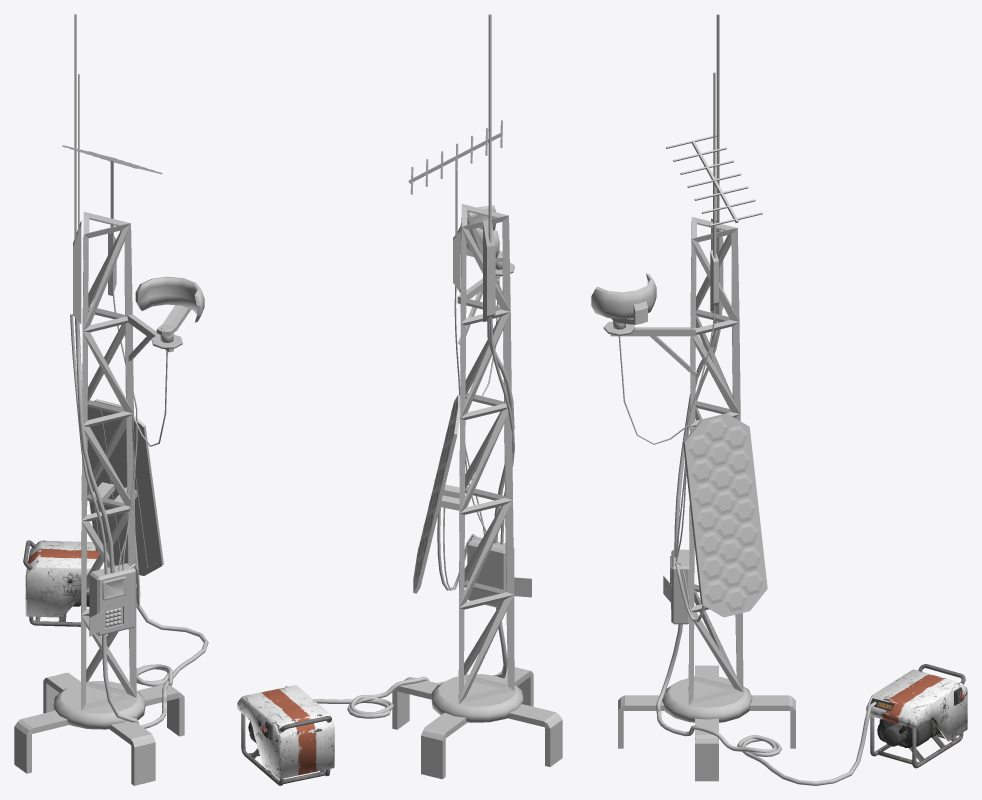
The model's file is Tower.fbx.
3 views of the same model, side by side, from view 1: azimuth 30°, elevation 25°; view 2: azimuth 150°, elevation 25°; view 3: azimuth 270°, elevation 25° (orthographic). The views are drawn at different scales.
Visible parts, largest first — view 1: Circle, generator, BezierCurve; view 2: Circle, generator, BezierCurve; view 3: Circle, generator, BezierCurve.
Boxes of the visible parts, box(x1,y1,x2,y2) form: Circle: box(14, 14, 204, 785); generator: box(23, 540, 107, 626); BezierCurve: box(102, 605, 208, 728); Circle: box(392, 14, 562, 779); generator: box(237, 685, 334, 785); BezierCurve: box(285, 607, 507, 718); Circle: box(591, 14, 795, 781); generator: box(866, 664, 967, 768); BezierCurve: box(656, 624, 876, 785).
Size of the model in its own units: 363 by 1073 by 509.
